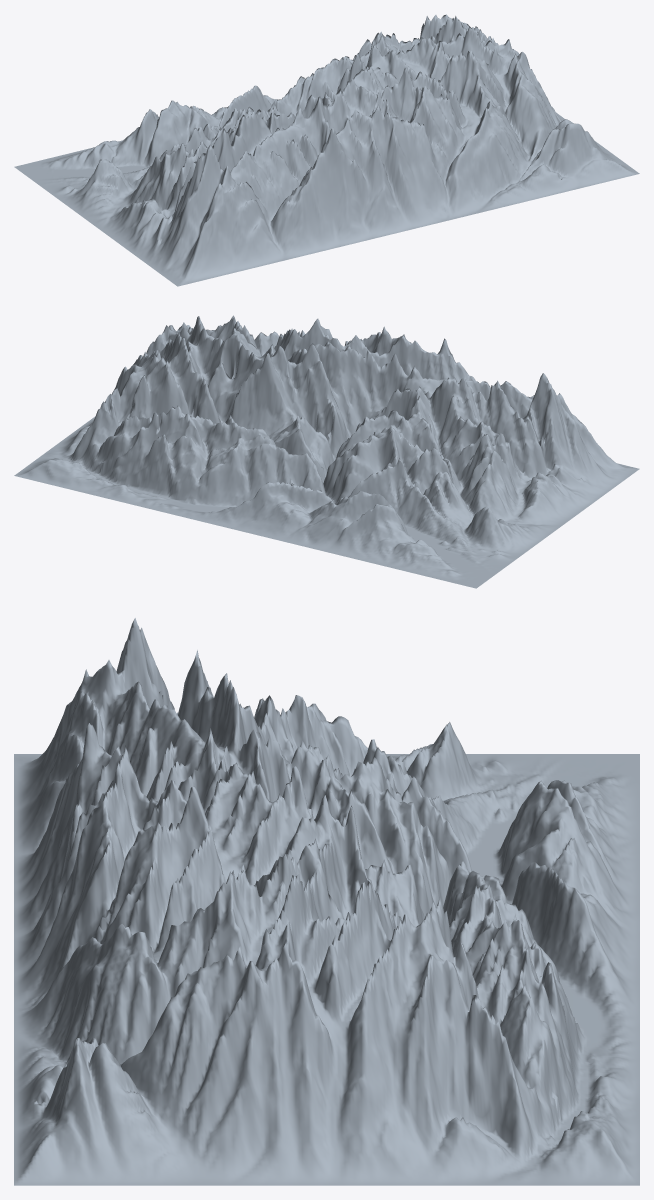
File: eiger-ridge-compressed.glb
The picture shows the model from 3 angles, top to bottom: view 1: azimuth 30°, elevation 25°; view 2: azimuth 150°, elevation 25°; view 3: azimuth 270°, elevation 25°; orthographic projection. The views are drawn at different scales.
Parts seen in each view (by area): view 1: eiger-ridge; view 2: eiger-ridge; view 3: eiger-ridge.
Boxes of the visible parts, x1,y1,x2,y2 form: eiger-ridge: (14, 14, 639, 286); eiger-ridge: (14, 315, 639, 588); eiger-ridge: (14, 618, 639, 1185).
Bounding box in the file's own units: 124 × 30.11 × 76.
